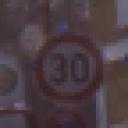speed_limit_30: (36, 32, 103, 104)
